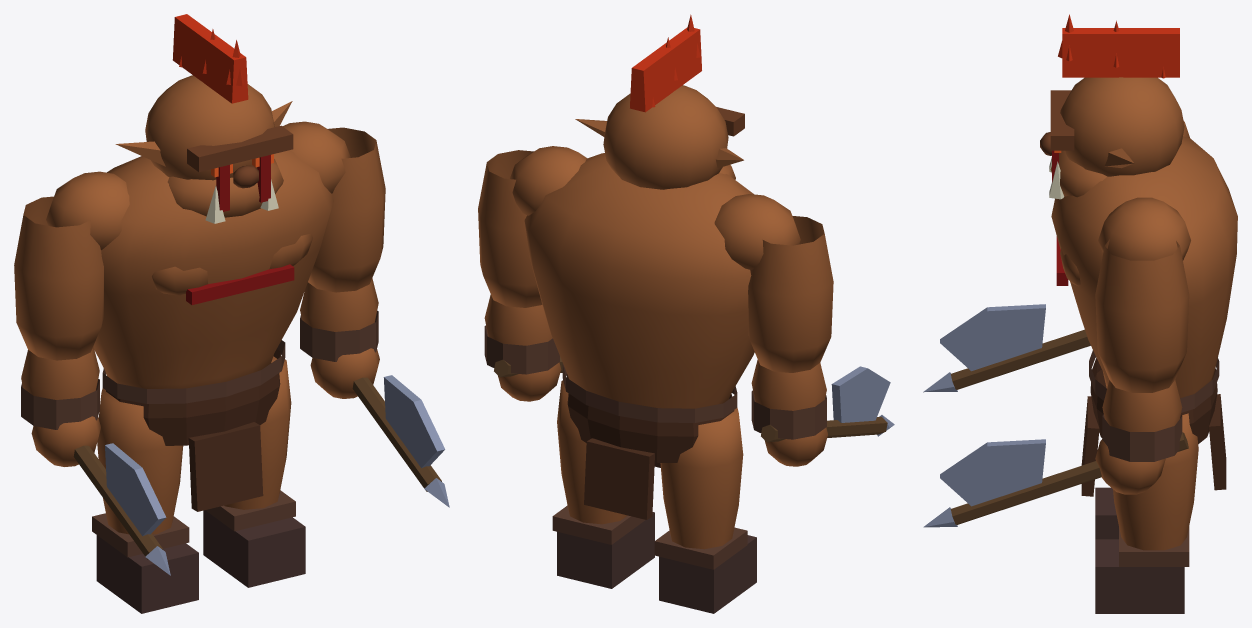
File: orc_berserker.glb
The picture shows the model from 3 angles, left to right: view 1: azimuth 30°, elevation 25°; view 2: azimuth 150°, elevation 25°; view 3: azimuth 270°, elevation 25°; orthographic projection. The views are drawn at different scales.
Parts seen in each view (by area): view 1: Body, ArmL, ArmR, Head, LegL, LegR; view 2: Body, ArmL, Head, LegL, ArmR, LegR; view 3: Body, ArmR, Head, LegR, ArmL, LegL.
Part boxes in pixels (left/top/right/bottom): Body: left=46, top=121, right=350, bottom=511; ArmL: left=14, top=196, right=170, bottom=575; ArmR: left=300, top=127, right=449, bottom=507; Head: left=115, top=14, right=293, bottom=223; LegL: left=92, top=388, right=198, bottom=613; LegR: left=203, top=356, right=305, bottom=587; Body: left=510, top=146, right=800, bottom=519; ArmL: left=748, top=216, right=894, bottom=466; Head: left=575, top=14, right=744, bottom=189; LegL: left=654, top=407, right=756, bottom=613; ArmR: left=478, top=150, right=562, bottom=401; LegR: left=552, top=380, right=654, bottom=588; Body: left=1051, top=120, right=1237, bottom=496; ArmR: left=923, top=239, right=1189, bottom=527; Head: left=1040, top=14, right=1184, bottom=199; LegR: left=1095, top=413, right=1198, bottom=613; ArmL: left=923, top=304, right=1090, bottom=392; LegL: left=1095, top=487, right=1118, bottom=539.
Bounding box in the file's own units: 1.74 × 2.63 × 1.34.
